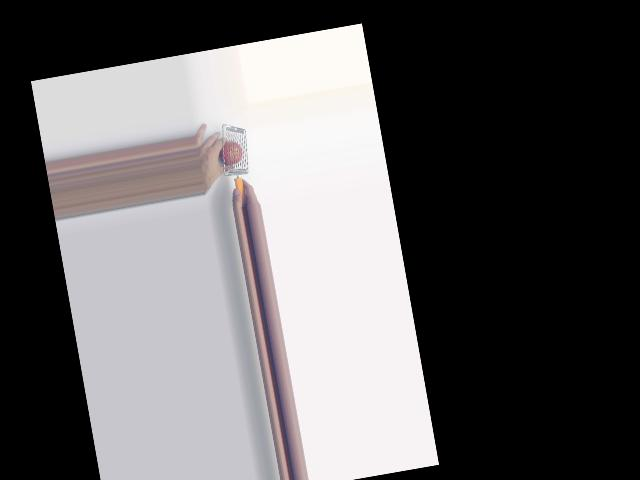tomato: (217, 139, 244, 167)
